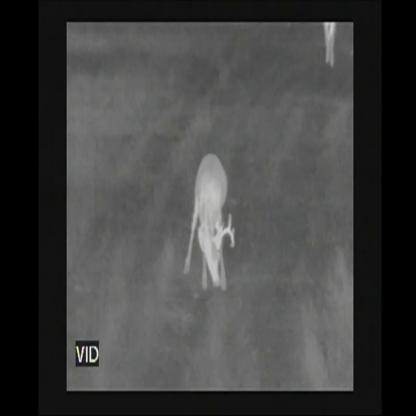rehkitze: (183, 138, 238, 298), (320, 23, 339, 74)
